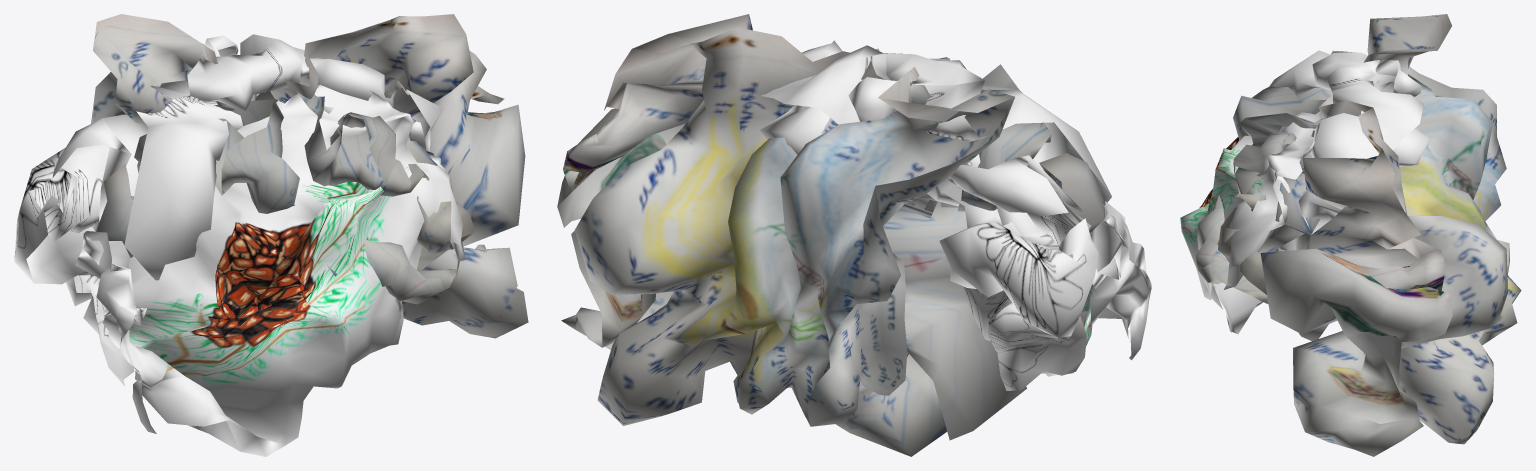
The model's file is crumpledPaper.obj.
3 renders of one model, left to right at view 1: azimuth 30°, elevation 25°; view 2: azimuth 150°, elevation 25°; view 3: azimuth 270°, elevation 25°, orthographic. The views are drawn at different scales.
Visible parts, largest first — view 1: Crumpled_Paper_050, Crumpled_Paper_040, Crumpled_Paper_030, Crumpled_Paper_020; view 2: Crumpled_Paper_030, Crumpled_Paper_040, Crumpled_Paper_010, Crumpled_Paper_050, Crumpled_Paper_020; view 3: Crumpled_Paper_030, Crumpled_Paper_020, Crumpled_Paper_040, Crumpled_Paper_050.
Part boxes in pixels (box(x1,y1,x2,y2)): Crumpled_Paper_050: box(75, 85, 465, 456); Crumpled_Paper_040: box(14, 34, 443, 386); Crumpled_Paper_030: box(91, 14, 528, 338); Crumpled_Paper_020: box(96, 77, 475, 304); Crumpled_Paper_030: box(557, 14, 1014, 426); Crumpled_Paper_040: box(760, 43, 1111, 390); Crumpled_Paper_010: box(835, 200, 1026, 456); Crumpled_Paper_050: box(831, 40, 1151, 376); Crumpled_Paper_020: box(876, 48, 1104, 233); Crumpled_Paper_030: box(1260, 14, 1521, 456); Crumpled_Paper_020: box(1195, 86, 1332, 304); Crumpled_Paper_040: box(1269, 50, 1429, 234); Crumpled_Paper_050: box(1180, 111, 1322, 334).
Bounding box in the file's own units: 0.1901 × 0.1376 × 0.1372.
Materials: 1 (1 with a texture image).
